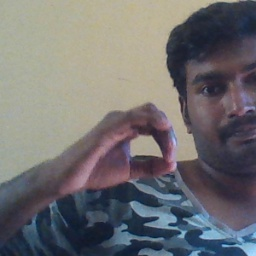O: (60, 102, 182, 190)
